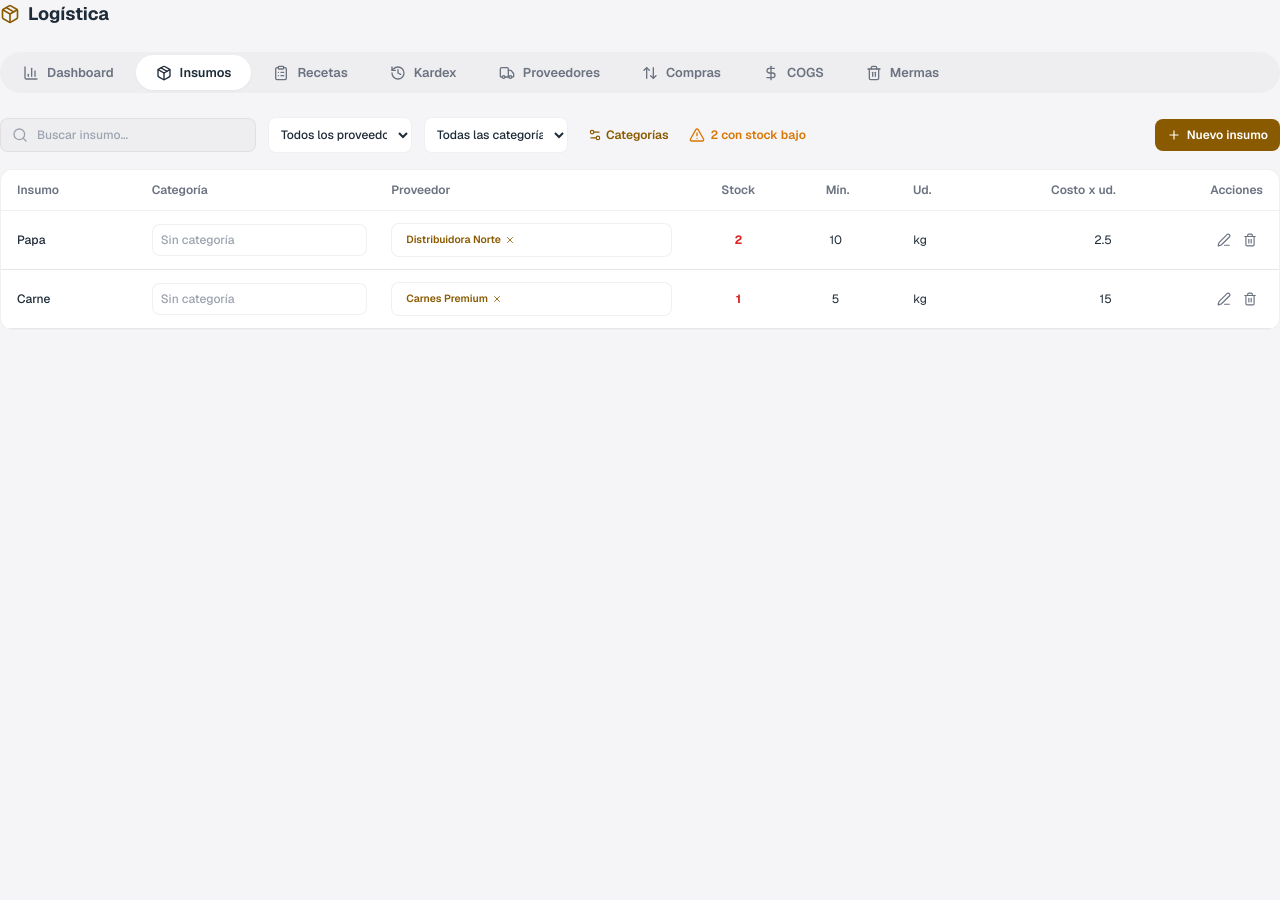
PurchaseOrdersSection › recibe una orden confirmando cantidades editadas (recepción real)
The image size is (1280, 900).
Click the button "Compras" at point(681, 73), box [622, 55, 741, 90]
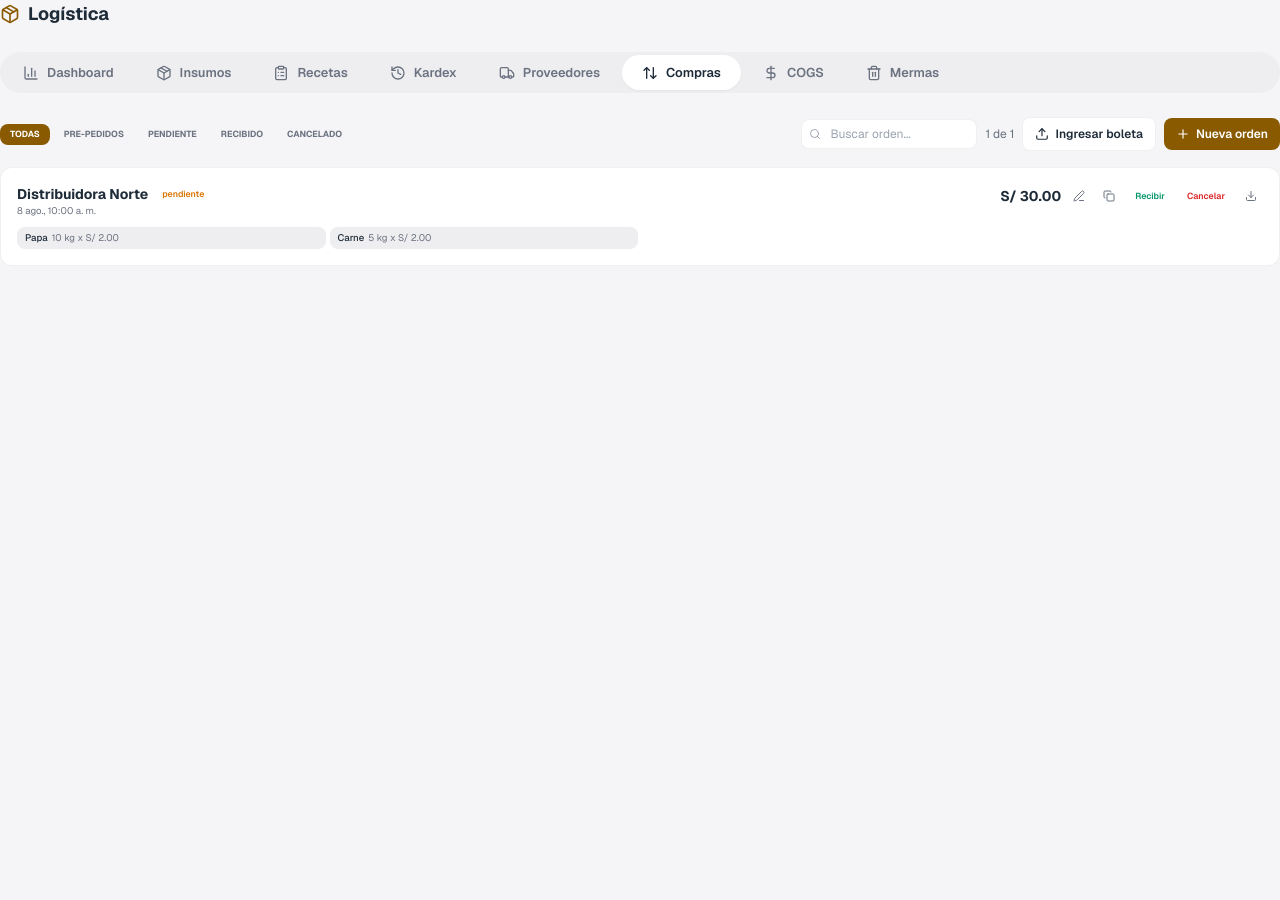
Expected: the text "Distribuidora Norte" is shown, [17, 184, 148, 204]
Click the button "Recibir" at point(1150, 196), box [1127, 186, 1173, 207]
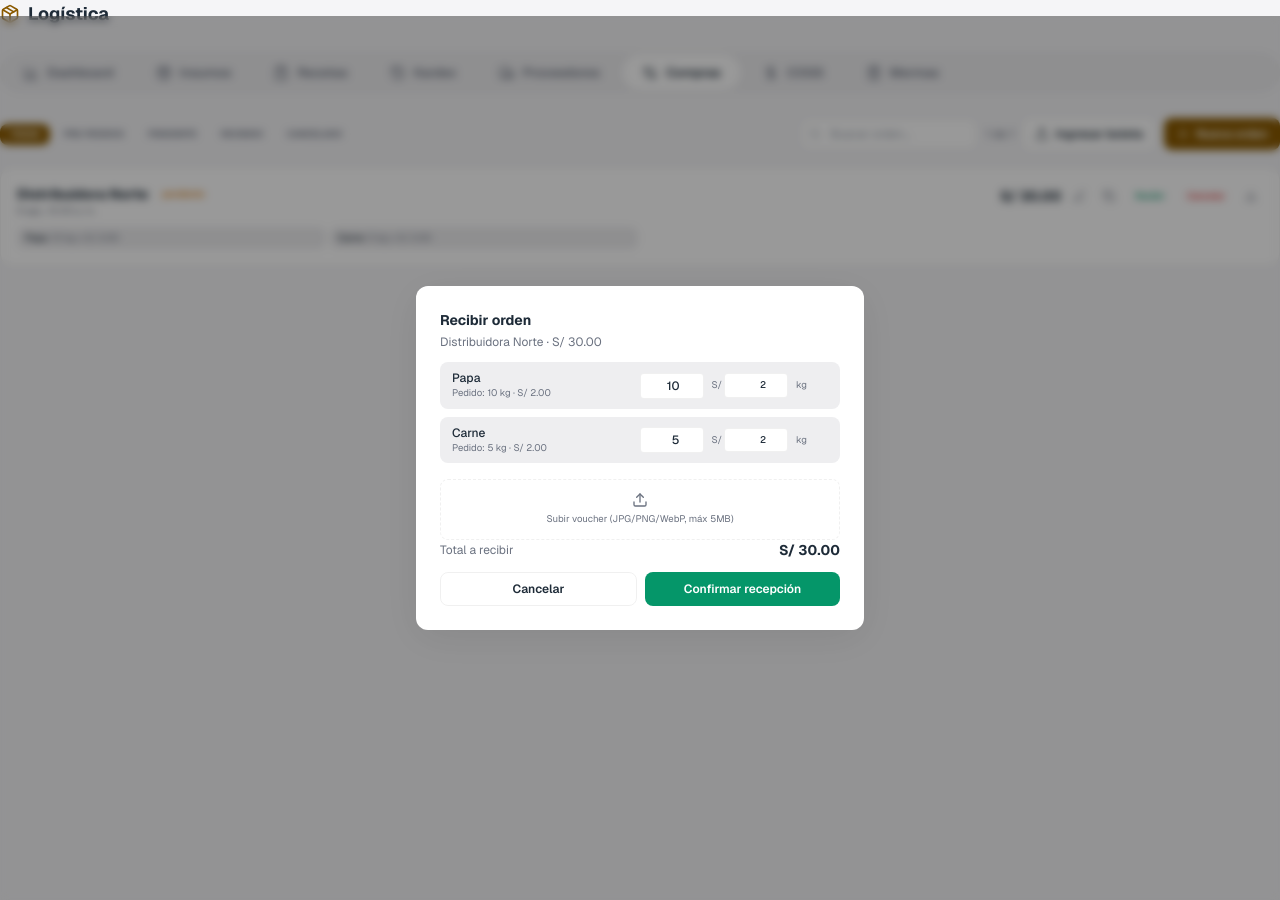
Now the button "Confirmar recepción" is shown, box [645, 572, 840, 606]
Now the number of number fields is 4
Replace the text in the number field named "Cantidad Papa" with "8" at point(672, 386), box [640, 373, 704, 399]
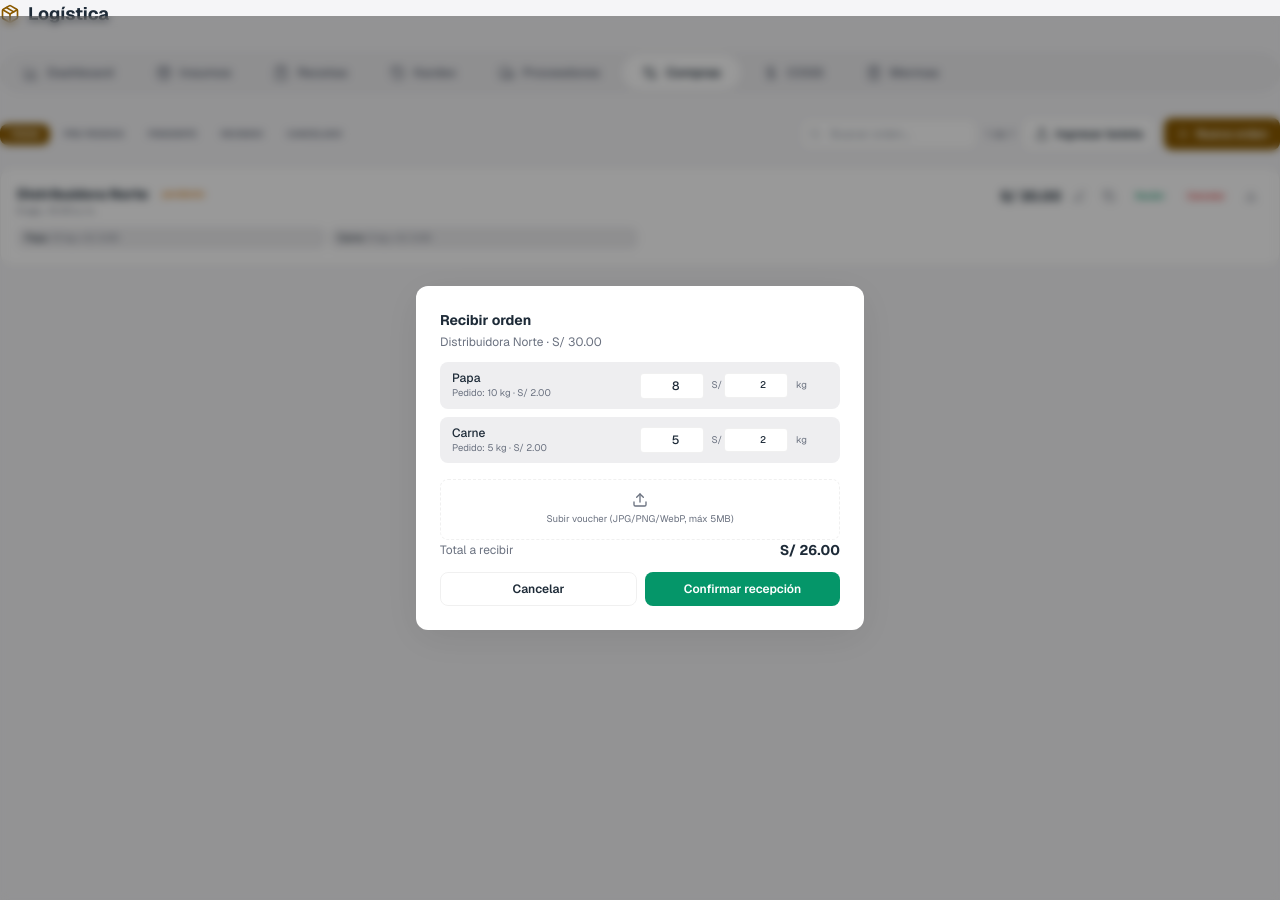
Click the button "Confirmar recepción" at point(742, 589), box [645, 572, 840, 606]
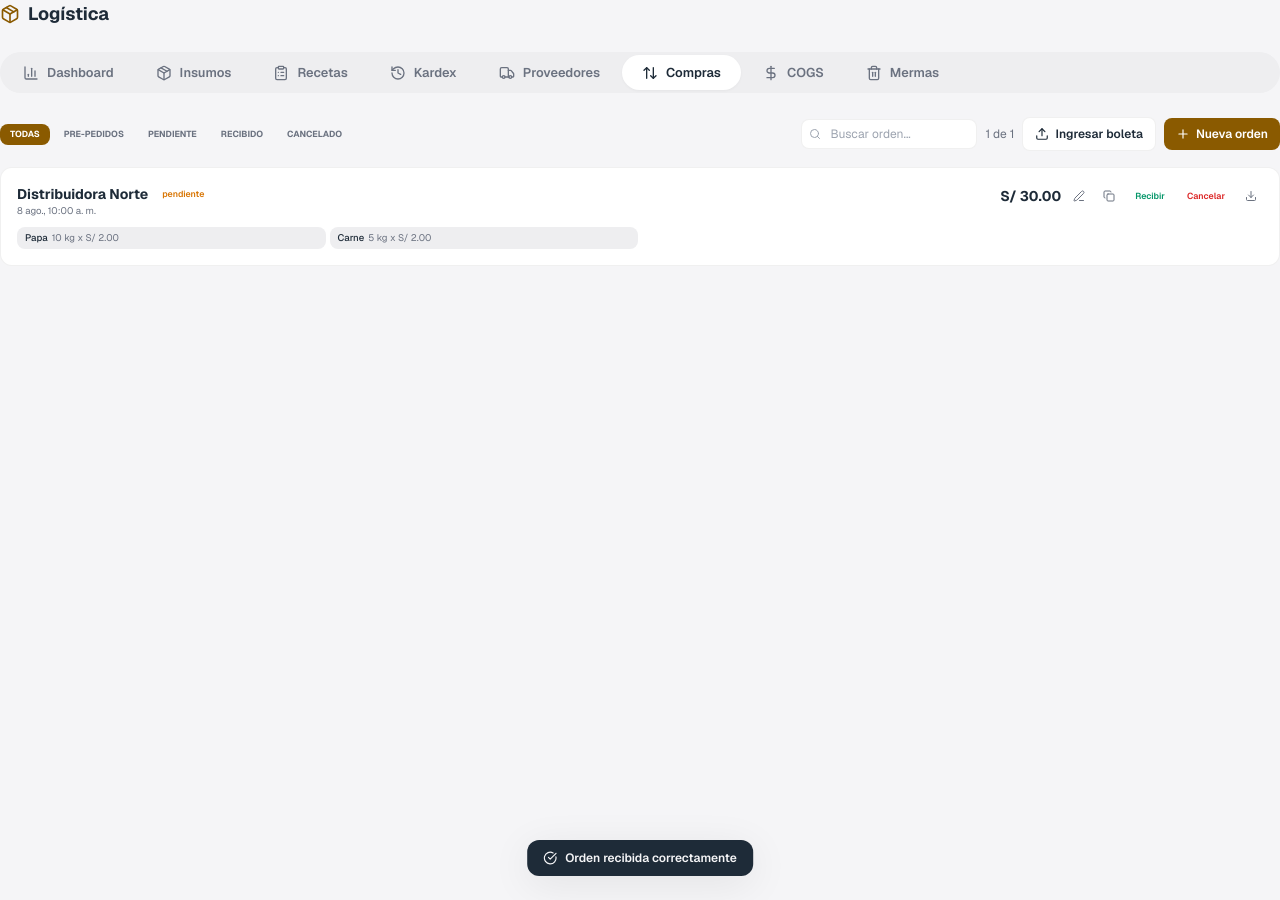
Now the button "Confirmar recepción" is gone
